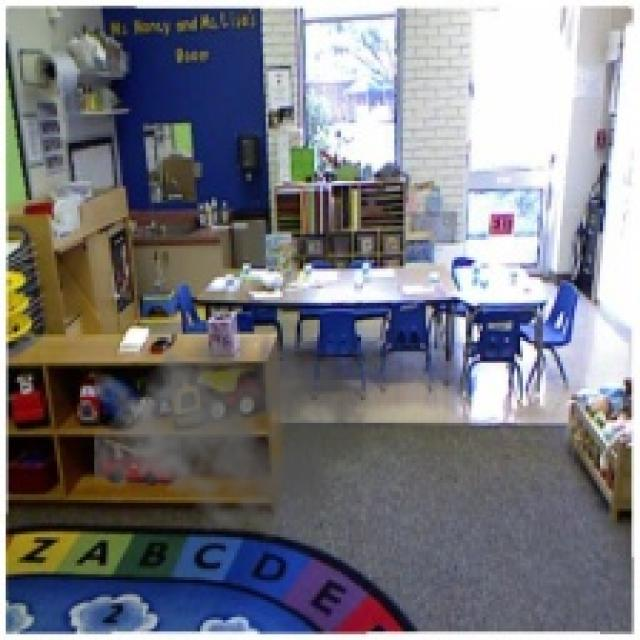smoke: (95, 308, 372, 543)
